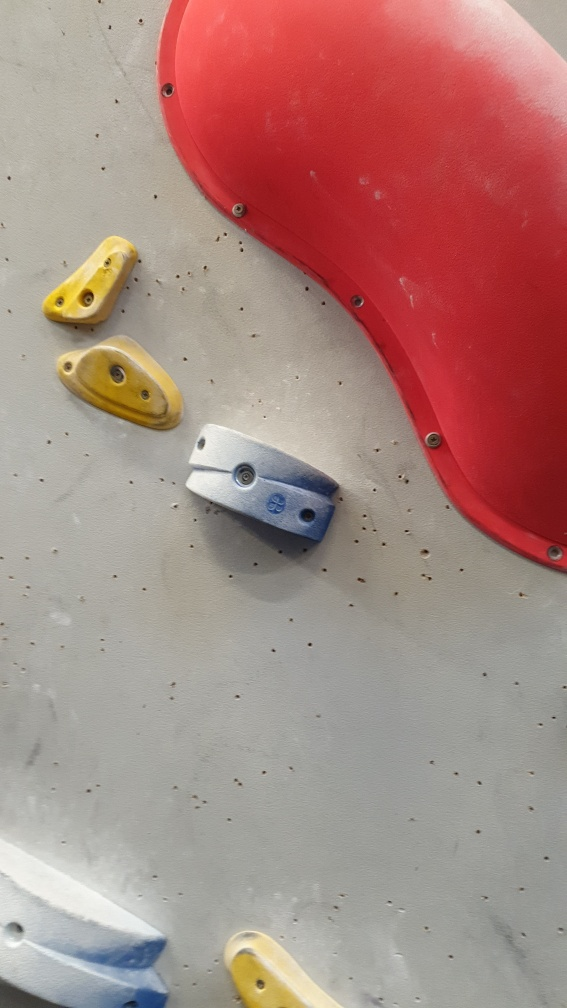Crimp: (62, 339, 180, 435), (54, 240, 137, 327), (225, 936, 321, 1008)
Pinch: (2, 840, 171, 1007), (183, 417, 341, 550)
